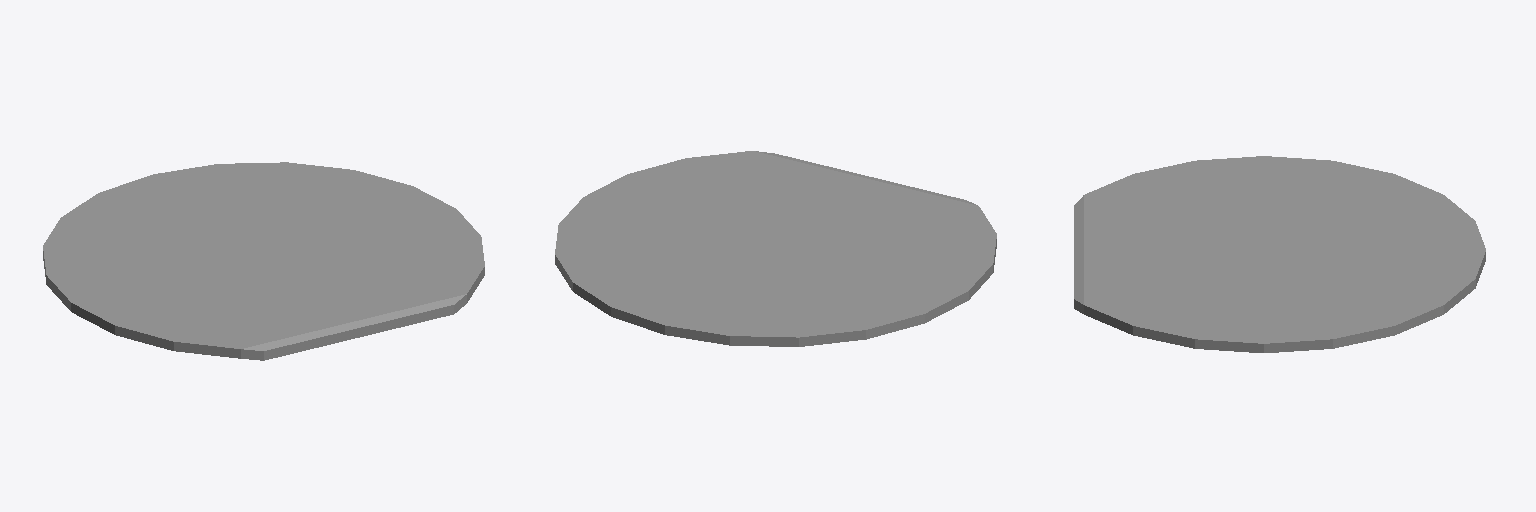
3 renders of one model, left to right at view 1: azimuth 30°, elevation 25°; view 2: azimuth 150°, elevation 25°; view 3: azimuth 270°, elevation 25°, orthographic.
Parts seen in each view (by area): view 1: collision_Cylinder.000; view 2: collision_Cylinder.000; view 3: collision_Cylinder.000.
Boxes of the visible parts, x1=… form: collision_Cylinder.000: x1=43, y1=162, x2=484, y2=360; collision_Cylinder.000: x1=555, y1=151, x2=996, y2=346; collision_Cylinder.000: x1=1074, y1=156, x2=1485, y2=352.
Bounding box in the file's own units: 4 × 0.12 × 3.71.